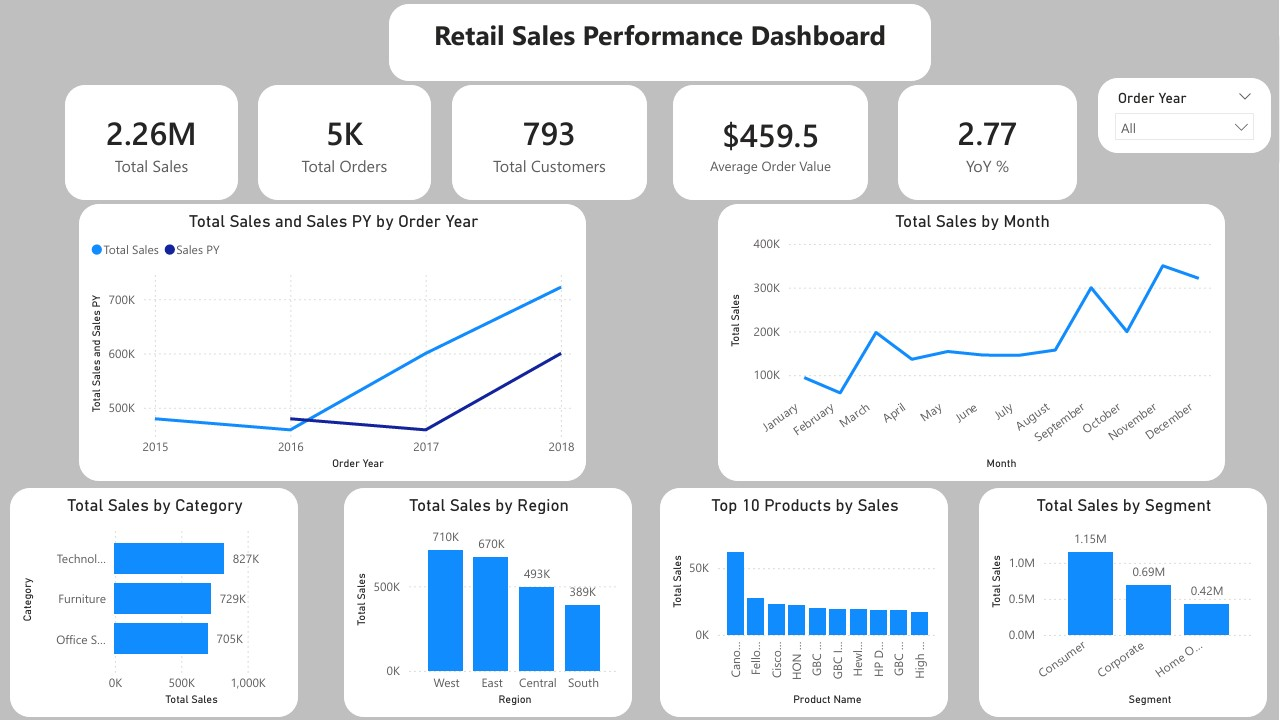

The page's visual inventory and layout, read from the dashboard file:
{"tool":"powerbi","page":{"name":"Page 1","canvas":[1280,720],"ordinal":0},"visuals":[{"type":"textbox","box":[389.1,2.9,541.8,76.8],"z":0},{"type":"cardVisual","fields":{"Data":["Financal_Dataset.Total_Sales"]},"box":[65.2,83.6,173.1,115.7],"z":1},{"type":"cardVisual","fields":{"Data":["Financal_Dataset.Total_Orders"]},"box":[257.8,83.6,173.1,115.7],"z":2},{"type":"cardVisual","fields":{"Data":["Financal_Dataset.Total_Customers"]},"box":[452.3,83.6,194.5,115.7],"z":3},{"type":"cardVisual","fields":{"Data":["Financal_Dataset.Average_Order_Value"]},"box":[673.1,83.6,194.5,115.7],"z":4},{"type":"barChart","fields":{"Category":["Financal_Dataset.Category"],"Y":["Financal_Dataset.Total_Sales"]},"box":[10,487,288,229],"z":5},{"type":"columnChart","fields":{"Category":["Financal_Dataset.Region"],"Y":["Financal_Dataset.Total_Sales"]},"box":[344,487,288,229],"z":6},{"type":"clusteredColumnChart","fields":{"Y":["Financal_Dataset.Total_Sales"],"Category":["Financal_Dataset.Segment"]},"box":[979,487,288,229],"z":7},{"type":"lineChart","fields":{"Category":["Financal_Dataset.Order Date.Variation.Date Hierarchy.Month"],"Y":["Financal_Dataset.Total_Sales"]},"box":[717.8,203.3,506.7,277.2],"z":8},{"type":"slicer","fields":{"Values":["Financal_Dataset.Order Year"]},"box":[1098.1,76.8,173.1,74.9],"z":9},{"type":"cardVisual","fields":{"Data":["Financal_Dataset.YoY %"]},"box":[897.8,83.6,179,115.7],"z":10},{"type":"lineChart","fields":{"Category":["Financal_Dataset.Order Year"],"Y":["Financal_Dataset.Total_Sales","Financal_Dataset.Sales PY"]},"box":[79,203,507,277],"z":11},{"type":"columnChart","title":"Top 10 Products by Sales","fields":{"Category":["Financal_Dataset.Product Name"],"Y":["Financal_Dataset.Total_Sales"]},"box":[660,487,288,229],"z":12}]}

Visuals, with their boxes in screenshot pixels (x1, y1, x2, y2), scaled from the page's 1280x720 canvas onto the 1281x720 screenshot:
textbox: bbox=[389, 3, 932, 80]
cardVisual - Financal_Dataset.Total_Sales: bbox=[65, 84, 238, 199]
cardVisual - Financal_Dataset.Total_Orders: bbox=[258, 84, 431, 199]
cardVisual - Financal_Dataset.Total_Customers: bbox=[453, 84, 647, 199]
cardVisual - Financal_Dataset.Average_Order_Value: bbox=[674, 84, 868, 199]
barChart - Financal_Dataset.Category x Financal_Dataset.Total_Sales: bbox=[10, 487, 298, 716]
columnChart - Financal_Dataset.Region x Financal_Dataset.Total_Sales: bbox=[344, 487, 632, 716]
clusteredColumnChart - Financal_Dataset.Total_Sales x Financal_Dataset.Segment: bbox=[980, 487, 1268, 716]
lineChart - Financal_Dataset.Order Date.Variation.Date Hierarchy.Month x Financal_Dataset.Total_Sales: bbox=[718, 203, 1225, 480]
slicer - Financal_Dataset.Order Year: bbox=[1099, 77, 1272, 152]
cardVisual - Financal_Dataset.YoY %: bbox=[899, 84, 1078, 199]
lineChart - Financal_Dataset.Order Year x Financal_Dataset.Total_Sales: bbox=[79, 203, 586, 480]
"Top 10 Products by Sales" columnChart: bbox=[661, 487, 949, 716]
